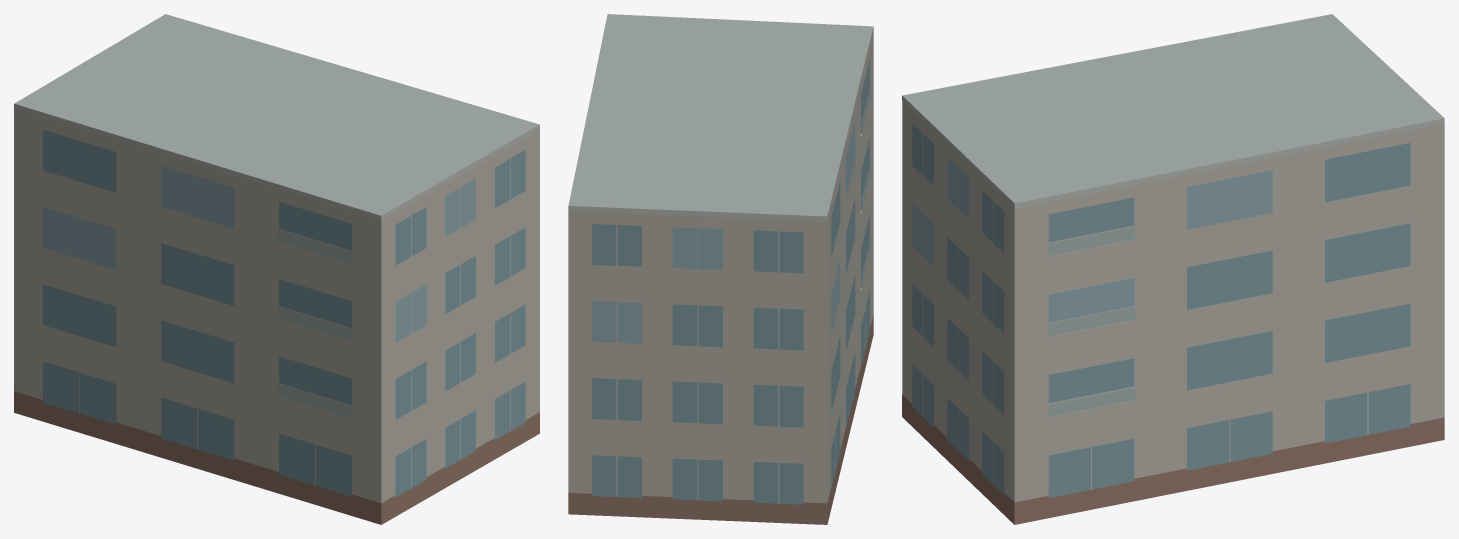
Rendered from survey-upis-32697359.glb.
The picture shows the model from 3 angles, left to right: view 1: azimuth 30°, elevation 25°; view 2: azimuth 150°, elevation 25°; view 3: azimuth 270°, elevation 25°; orthographic projection. The views are drawn at different scales.
Visible parts, largest first — view 1: survey-upis-32697359.tmp; view 2: survey-upis-32697359.tmp; view 3: survey-upis-32697359.tmp.
Boxes of the visible parts, <box> form: survey-upis-32697359.tmp: <box>14,14,539,524</box>; survey-upis-32697359.tmp: <box>568,14,873,524</box>; survey-upis-32697359.tmp: <box>902,14,1444,524</box>.
Bounding box in the file's own units: 18.2 × 14.4 × 22.03.
